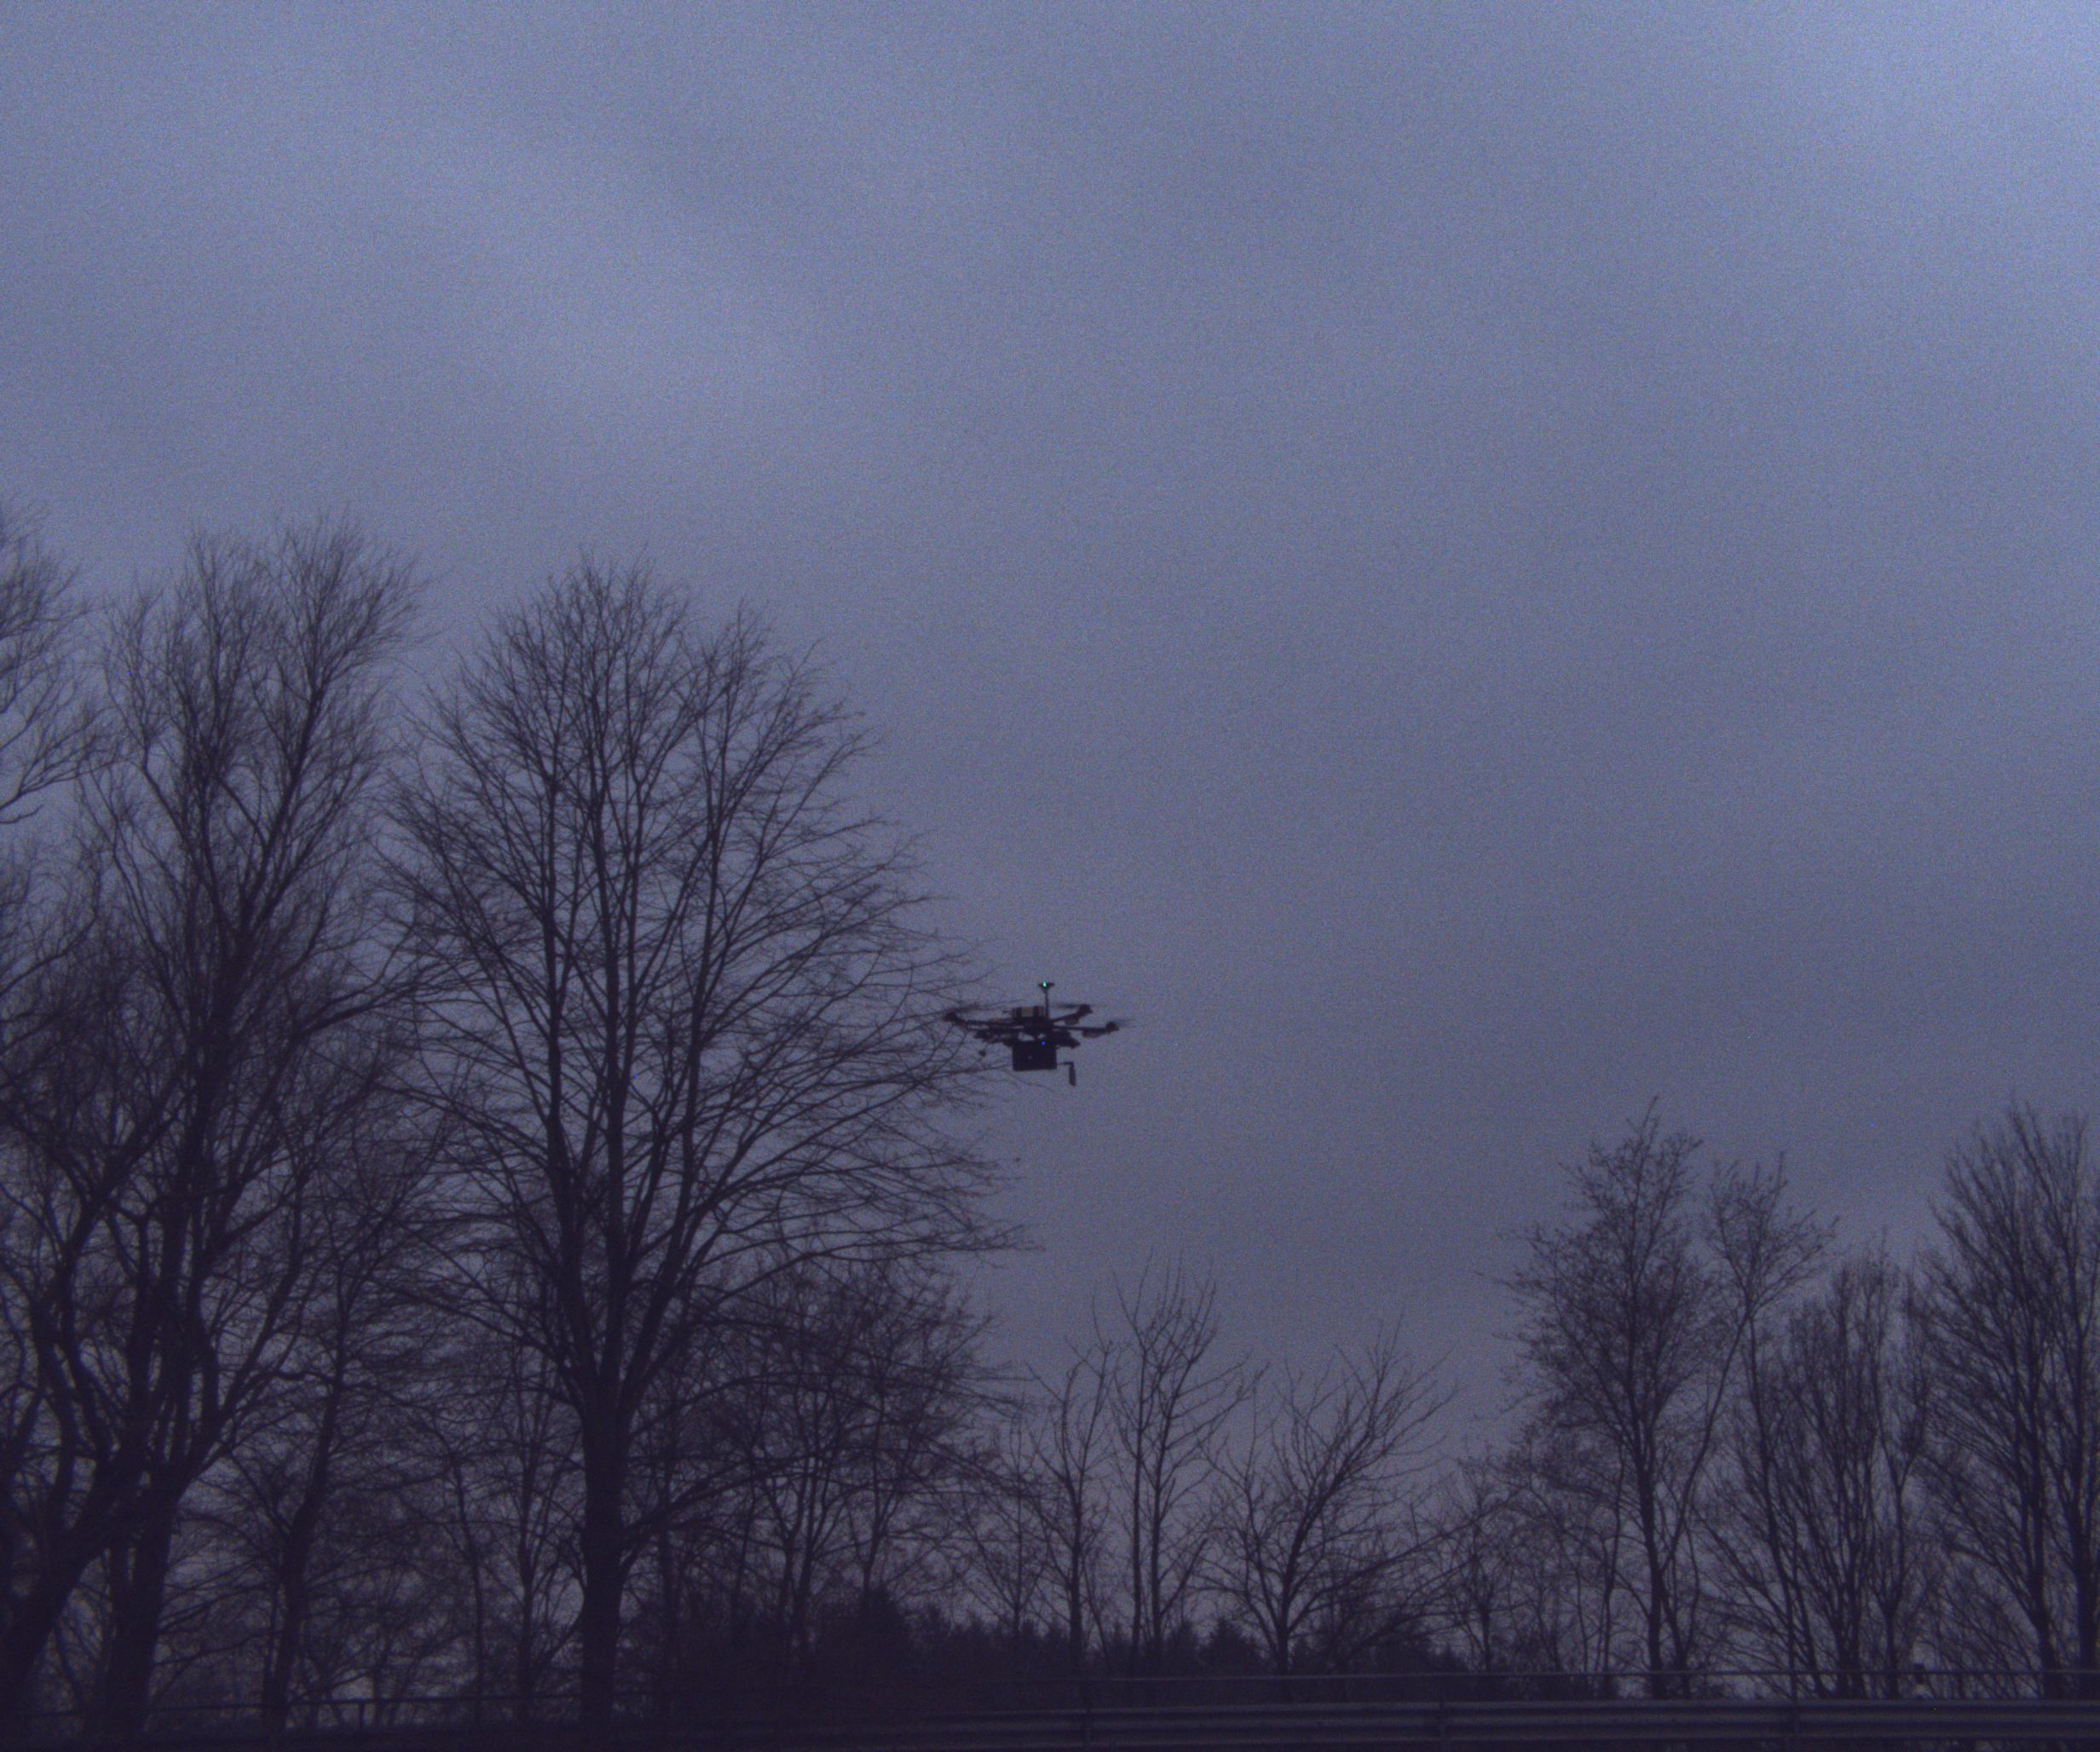Drohne: (903, 962, 1177, 1100)
